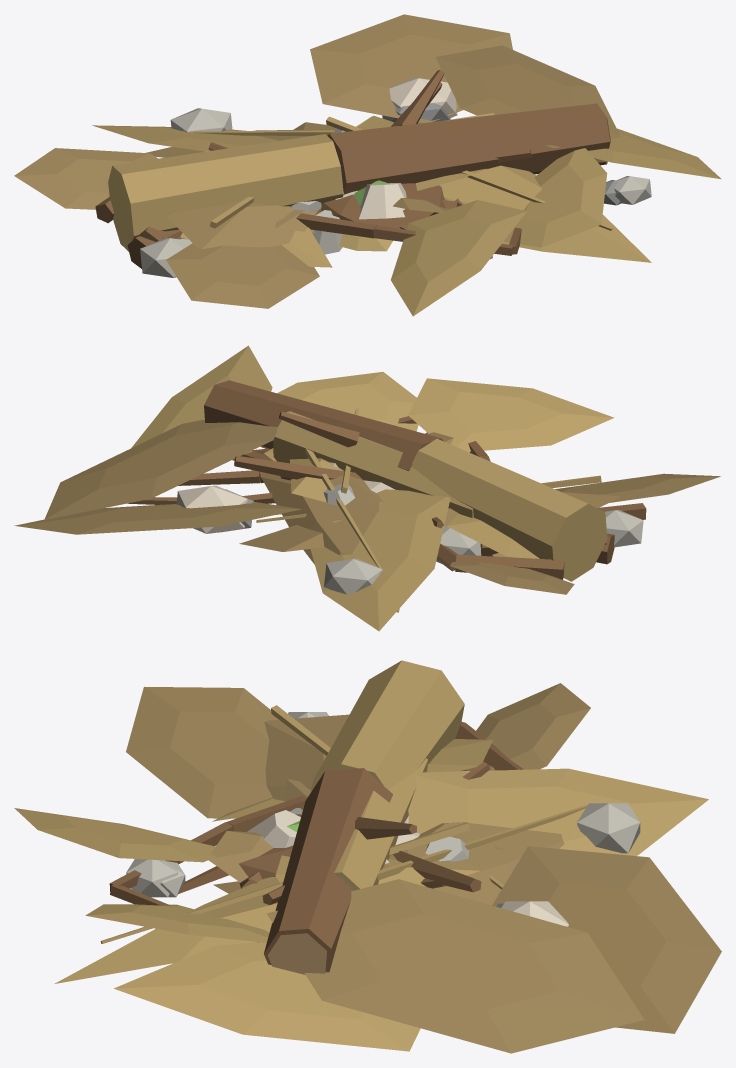
The model's file is detalle_suelo.glb.
3 views of the same model, one above another, from view 1: azimuth 30°, elevation 25°; view 2: azimuth 150°, elevation 25°; view 3: azimuth 270°, elevation 25° (orthographic). The views are drawn at different scales.
Parts seen in each view (by area): view 1: hojarasca_dispersa, madera_arrastre_larga, hojas_grandes_caidas, raices_serpenteantes, piedritas_claras, piedritas_mixtas, conchas_grupo, hojarasca_alargada, rama_larga, hojarasca_redonda, conchas_pequenas, rama_bifurcada; view 2: hojarasca_dispersa, madera_arrastre_larga, hojas_grandes_caidas, madera_arrastre_corta, raices_serpenteantes, piedritas_claras, piedritas_mixtas, rama_bifurcada, conchas_grupo, rama_larga; view 3: hojarasca_dispersa, madera_arrastre_larga, hojas_grandes_caidas, raices_serpenteantes, madera_arrastre_corta, piedritas_mixtas, piedritas_claras, hojarasca_alargada, conchas_grupo, rama_bifurcada.
Part boxes in pixels (x1,y1,x2,y2): hojarasca_dispersa: (14,14,721,316); madera_arrastre_larga: (108,69,610,251); hojas_grandes_caidas: (146,115,651,262); raices_serpenteantes: (95,183,521,255); piedritas_claras: (140,77,651,277); piedritas_mixtas: (170,103,621,240); conchas_grupo: (291,129,406,219); hojarasca_alargada: (275,130,448,232); rama_larga: (127,142,607,268); hojarasca_redonda: (339,234,392,251); conchas_pequenas: (312,210,342,254); rama_bifurcada: (391,82,531,163); hojarasca_dispersa: (14,345,720,631); madera_arrastre_larga: (204,380,607,581); hojas_grandes_caidas: (239,408,619,612); madera_arrastre_corta: (273,411,473,517); raices_serpenteantes: (127,416,646,579); piedritas_claras: (176,485,643,563); piedritas_mixtas: (217,489,382,594); rama_bifurcada: (234,455,362,479); conchas_grupo: (324,462,395,505); rama_larga: (232,450,614,564); hojarasca_dispersa: (14,683,721,1053); madera_arrastre_larga: (264,660,464,974); hojas_grandes_caidas: (54,705,587,983); raices_serpenteantes: (109,722,523,942); madera_arrastre_corta: (334,758,427,890); piedritas_mixtas: (160,803,640,907); piedritas_claras: (126,712,568,926); hojarasca_alargada: (208,779,505,882); conchas_grupo: (247,810,469,864); rama_bifurcada: (262,850,481,904).
Size of the model in its own units: 0.7538 by 0.1301 by 0.6791.
